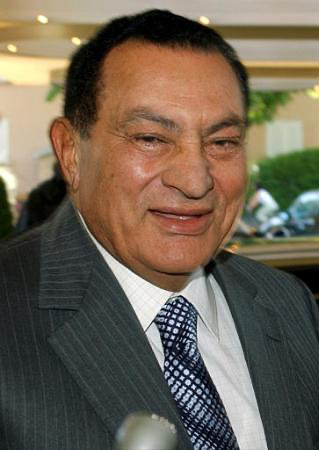Face: (86, 78, 248, 273)
